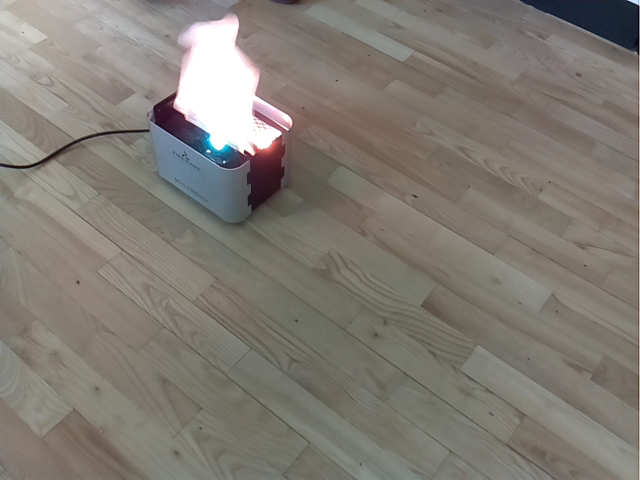fire: (172, 13, 260, 154)
